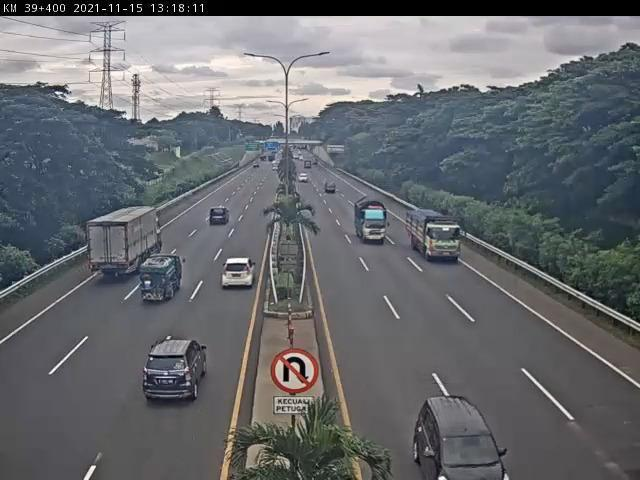car: (141, 337, 211, 402), (221, 258, 258, 292)
truck: (89, 207, 162, 283), (408, 211, 463, 264), (140, 254, 180, 302), (356, 199, 392, 247)
